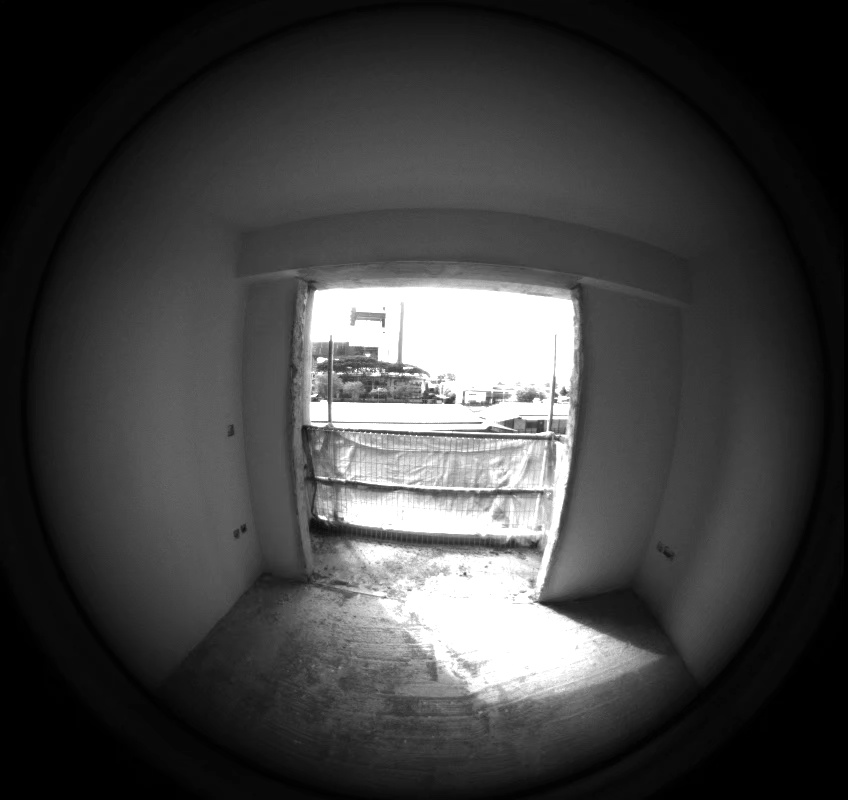Floor: (165, 268, 694, 796)
Safety rails: (260, 118, 564, 544)
Wall: (139, 286, 674, 598), (63, 279, 301, 577)
